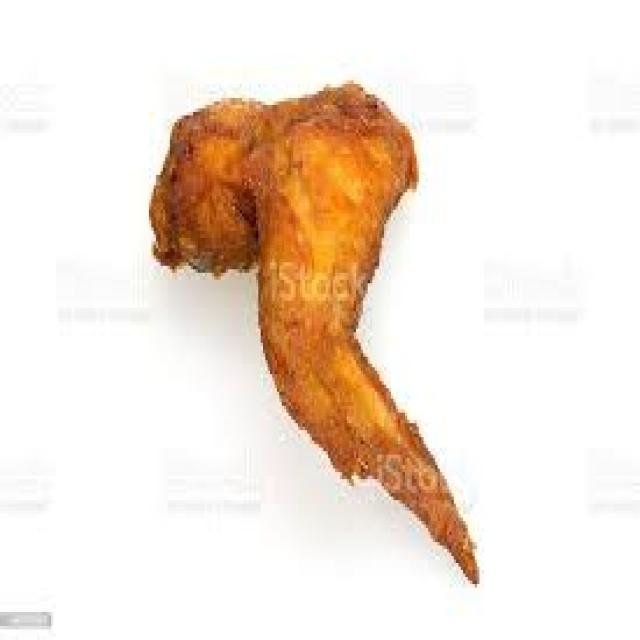Frango: (148, 50, 507, 624)
